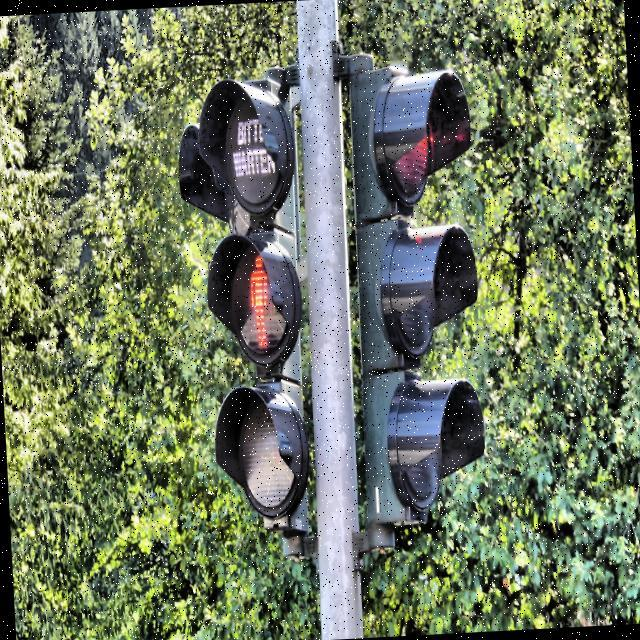red_light: (245, 252, 274, 352)
